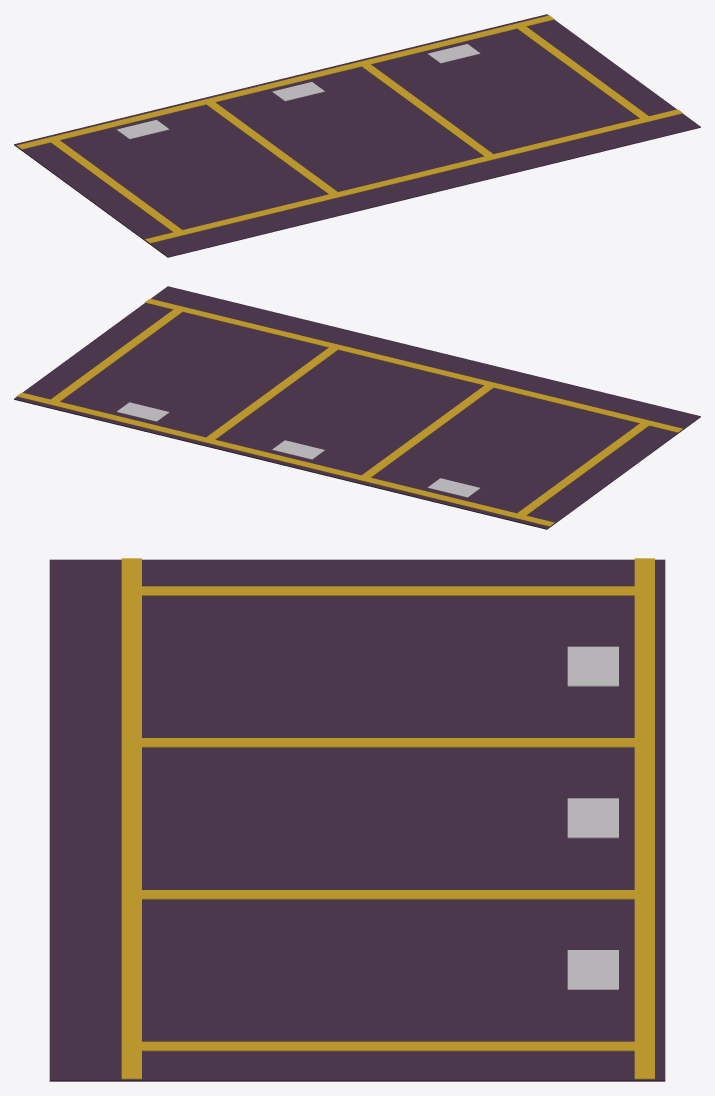
Rendered from yard_marks.glb.
The picture shows the model from 3 angles, top to bottom: view 1: azimuth 30°, elevation 25°; view 2: azimuth 150°, elevation 25°; view 3: azimuth 270°, elevation 25°; orthographic projection. The views are drawn at different scales.
Parts seen in each view (by area): view 1: yard_marks; view 2: yard_marks; view 3: yard_marks.
Part boxes in pixels (bbox=[...]): yard_marks: bbox=[14, 14, 700, 257]; yard_marks: bbox=[14, 286, 700, 529]; yard_marks: bbox=[49, 558, 665, 1081].
Bounding box in the file's own units: 12 × 0.04 × 6.
